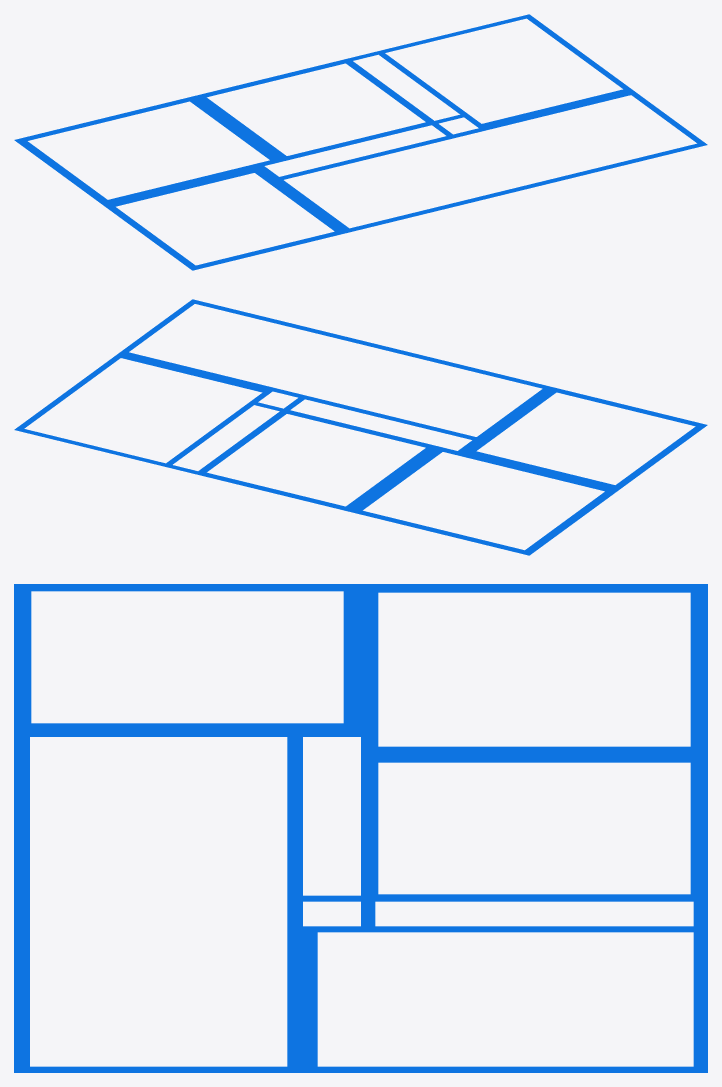
Rendered from SpaceLines_v2.fbx.
3 renders of one model, top to bottom at view 1: azimuth 30°, elevation 25°; view 2: azimuth 150°, elevation 25°; view 3: azimuth 270°, elevation 25°, orthographic. The views are drawn at different scales.
Parts seen in each view (by area): view 1: SpaceLine4, SpaceLine2, SpaceLine3, SpaceLine1, SpaceLine5, SpaceLine6, SpaceLine7; view 2: SpaceLine4, SpaceLine2, SpaceLine3, SpaceLine1, SpaceLine5, SpaceLine6, SpaceLine7; view 3: SpaceLine4, SpaceLine2, SpaceLine3, SpaceLine1, SpaceLine5, SpaceLine6, SpaceLine7.
Part boxes in pixels (bbox=[...]): SpaceLine4: bbox=[277, 90, 707, 232]; SpaceLine2: bbox=[14, 96, 282, 205]; SpaceLine3: bbox=[103, 167, 346, 270]; SpaceLine1: bbox=[195, 58, 437, 161]; SpaceLine5: bbox=[375, 14, 633, 127]; SpaceLine6: bbox=[343, 51, 469, 124]; SpaceLine7: bbox=[258, 123, 456, 181]; SpaceLine4: bbox=[118, 299, 552, 438]; SpaceLine2: bbox=[349, 446, 618, 555]; SpaceLine3: bbox=[464, 387, 707, 490]; SpaceLine1: bbox=[195, 409, 437, 511]; SpaceLine5: bbox=[14, 353, 272, 467]; SpaceLine6: bbox=[163, 401, 289, 475]; SpaceLine7: bbox=[284, 395, 482, 452]; SpaceLine4: bbox=[14, 730, 302, 1072]; SpaceLine2: bbox=[361, 584, 707, 755]; SpaceLine3: bbox=[14, 584, 360, 730]; SpaceLine1: bbox=[361, 755, 707, 901]; SpaceLine5: bbox=[303, 926, 707, 1072]; SpaceLine6: bbox=[361, 895, 707, 932]; SpaceLine7: bbox=[288, 730, 360, 901].
Bounding box in the file's own units: 400 × 2.28e-05 × 240.
